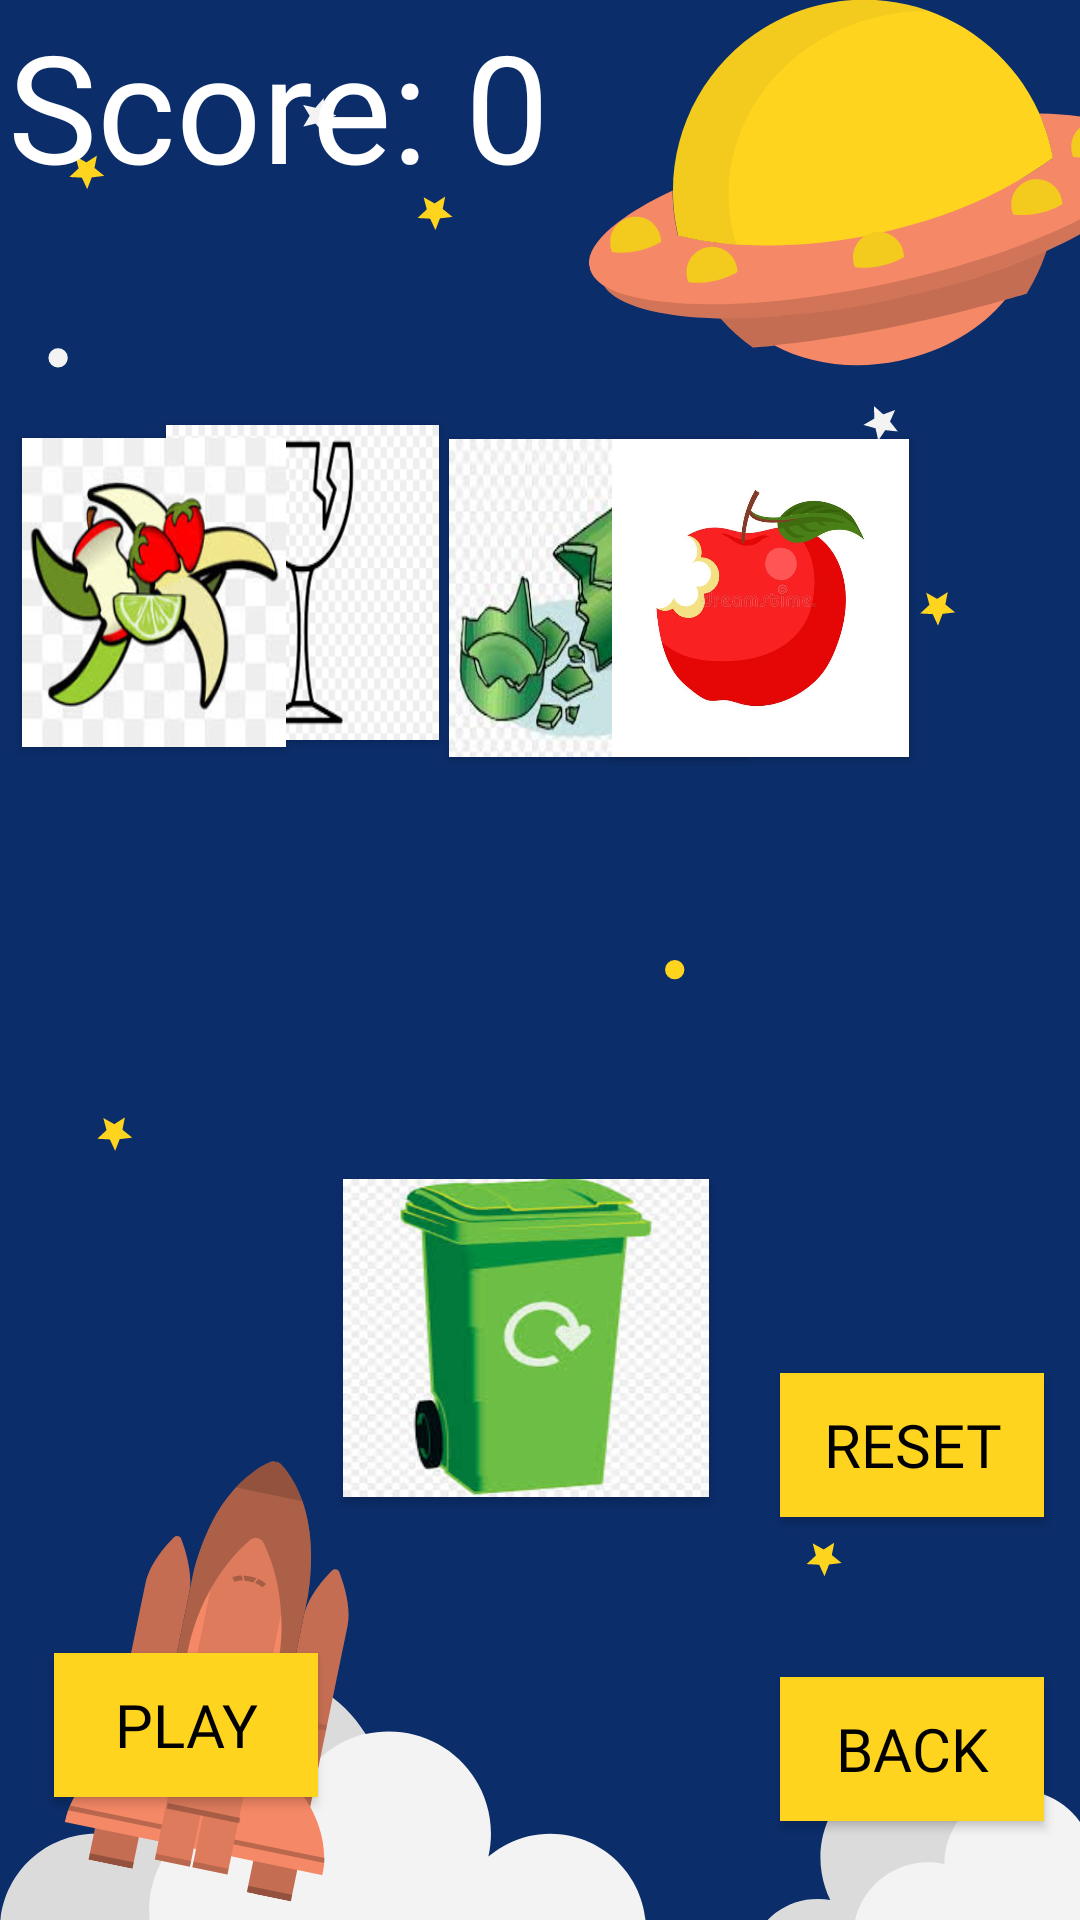

Screen size 1080px x 1920px. Icon name, then its box in pixels as {"left": x1, "top": y1, "right": x2, "bottom": y2}:
frutas: {"left": 22, "top": 438, "right": 286, "bottom": 747}
manzanawhite: {"left": 612, "top": 439, "right": 909, "bottom": 757}
